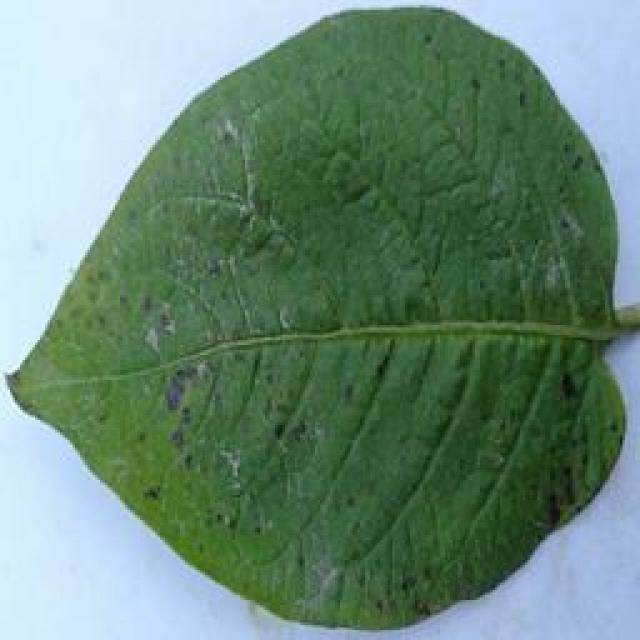Potato_Early_Blight: (2, 6, 634, 634)
